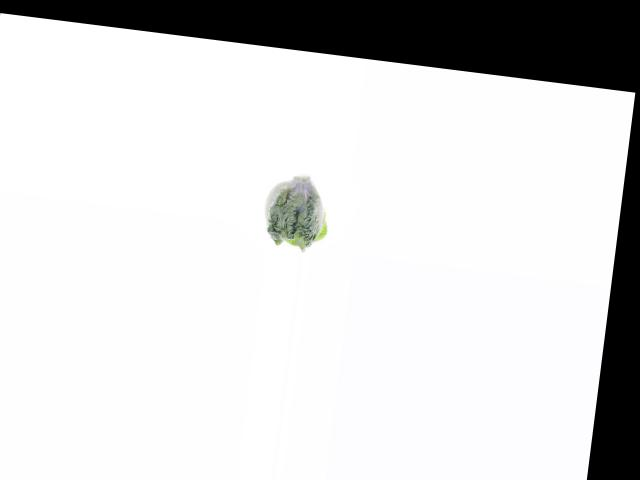lettuce: (258, 171, 337, 253)
